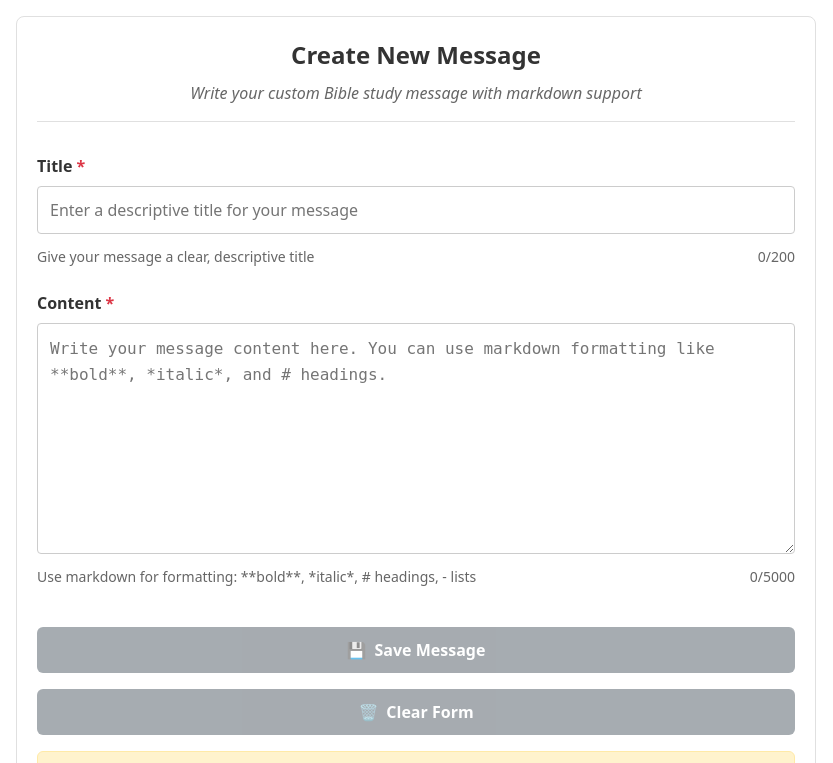
Test: MessageEditor Component › Error Handling › handles customMessageUtils exceptions gracefully
In the field labelled "Title *": (416, 210) [37,186,795,234], type "Test Title"
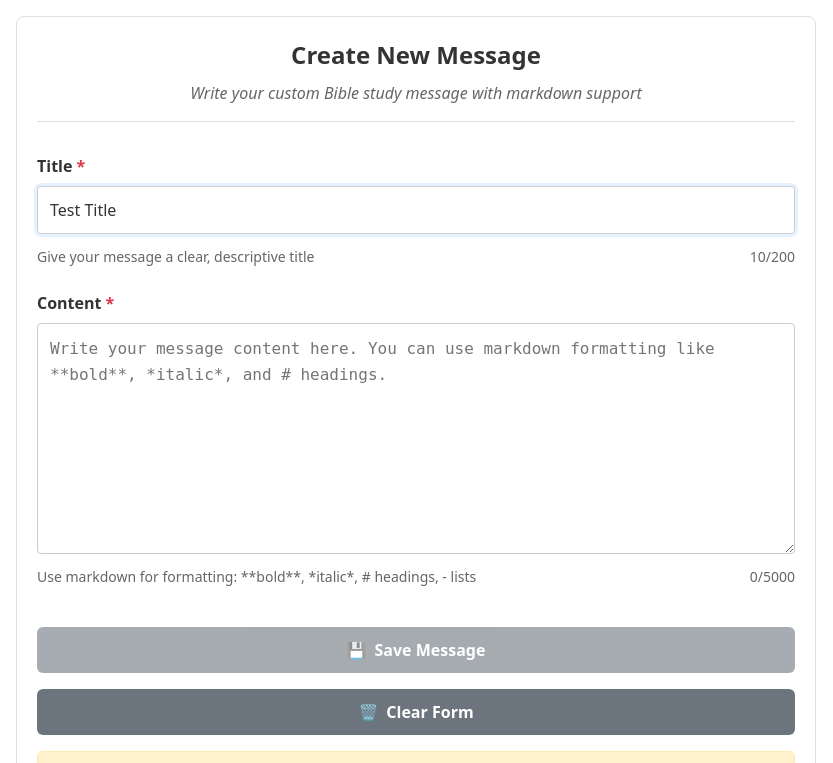
In the text box labelled "Content *": (416, 438) [37,323,795,554], type "Test content"
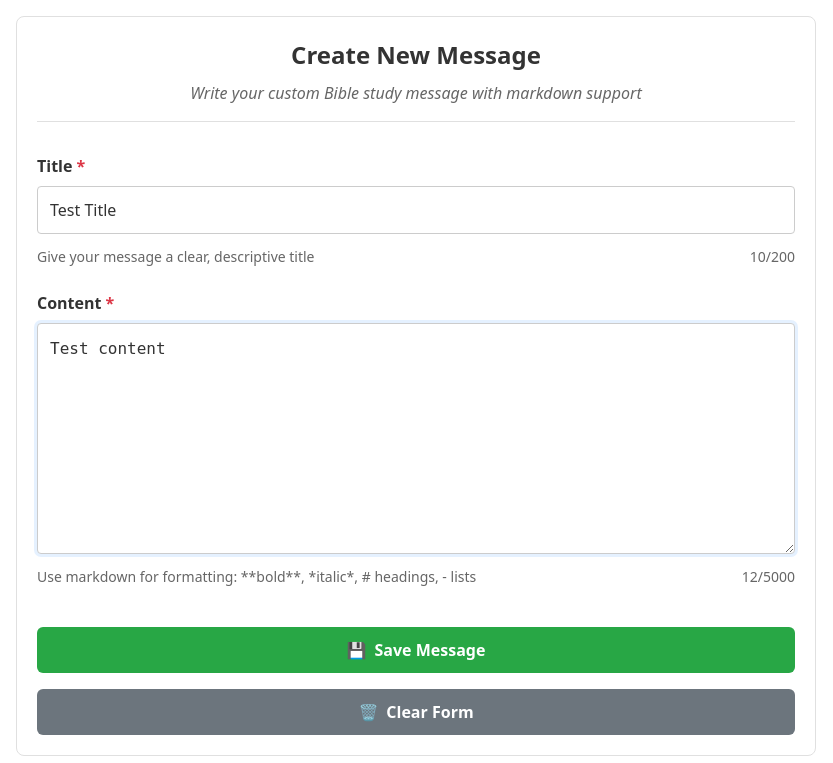
Click the button "💾 Save Message": (416, 650) [37,627,795,673]
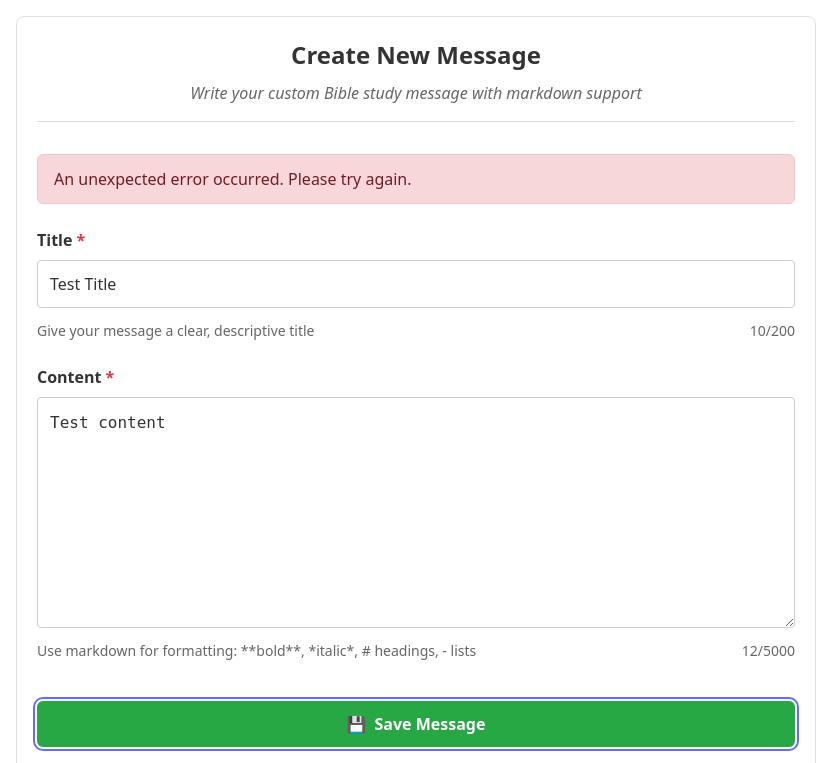
Result: the text "An unexpected error occurred. Please try again." is shown at [37,154,795,204]
